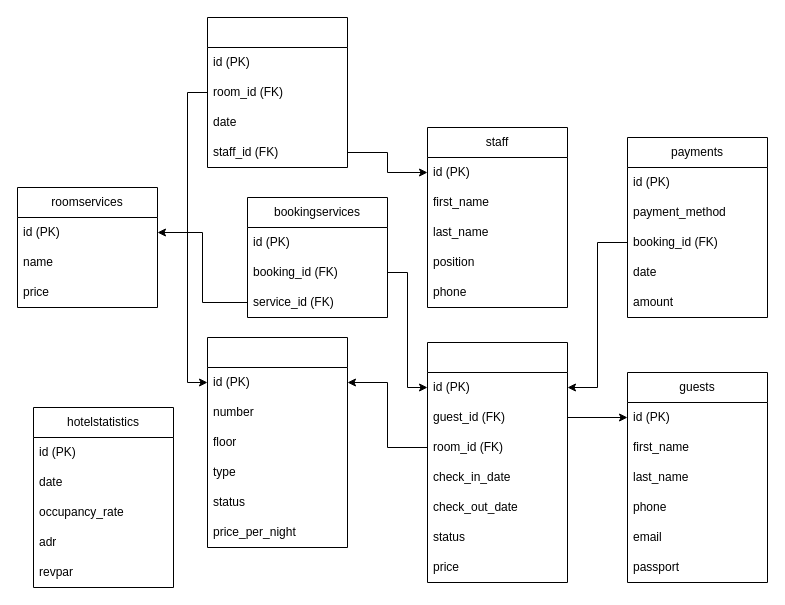
The diagram is 785 pixels wide and 605 high, and some of its shapes have lost their labels. The shapes that lost their labels are listed below. From the top down, each one's box as (x1, y1, x2, y2) in pixels, then its label:
(206, 16, 348, 168): cleaningschedule
(206, 336, 348, 548): rooms
(426, 342, 568, 582): bookings
